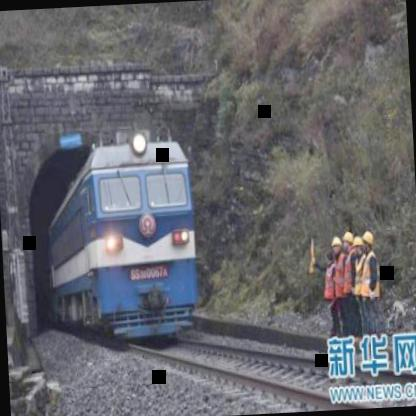helmet: (362, 228, 377, 256), (328, 233, 344, 258), (340, 228, 354, 255), (350, 234, 364, 259)
